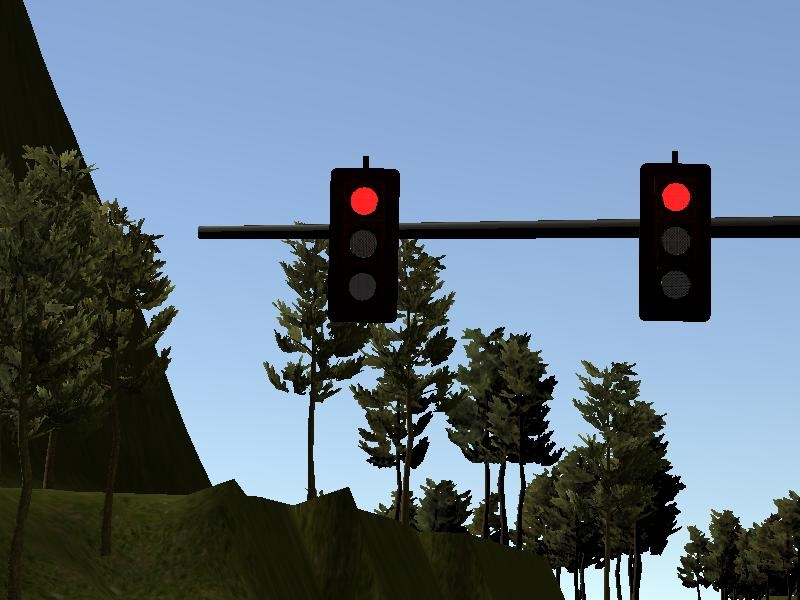RED: (637, 164, 711, 321), (327, 168, 400, 318)
